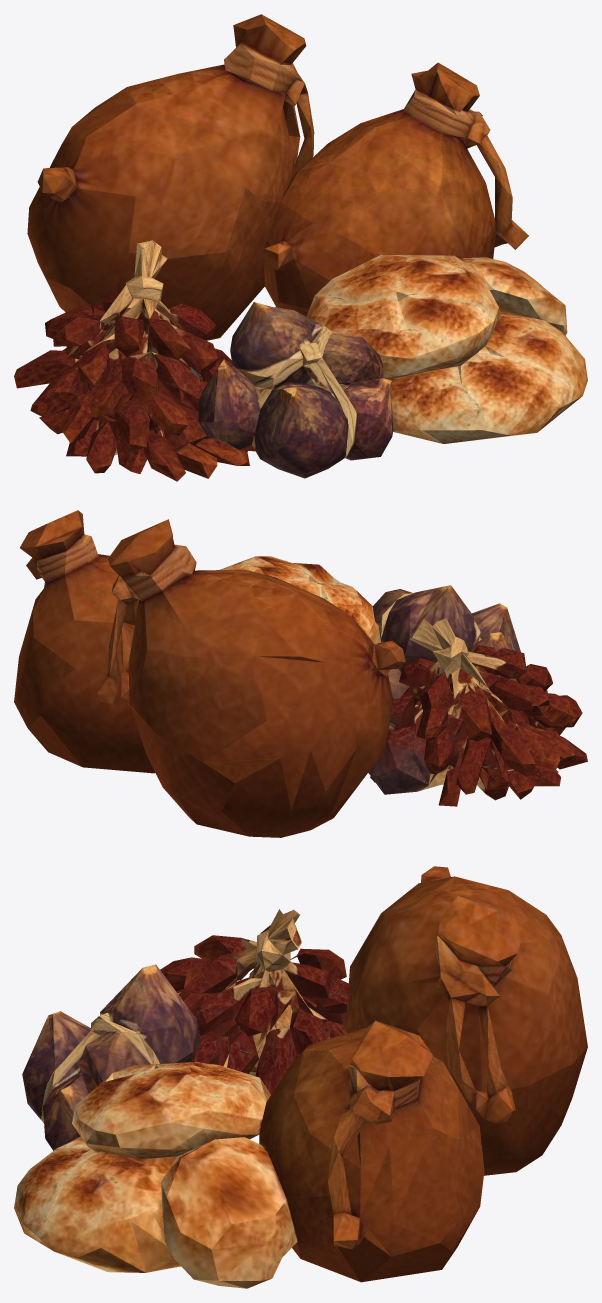
The model's file is abigail-gifts.glb.
3 renders of one model, top to bottom at view 1: azimuth 30°, elevation 25°; view 2: azimuth 150°, elevation 25°; view 3: azimuth 270°, elevation 25°, orthographic. The views are drawn at different scales.
Bounding box in the file's own units: 1.9 × 0.9693 × 1.66.
Materials: 1 (1 with a texture image).
